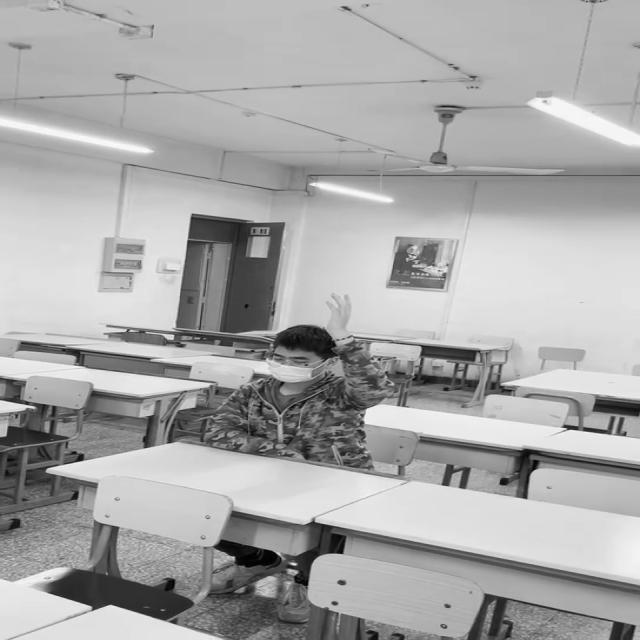study: (208, 295, 393, 465)
